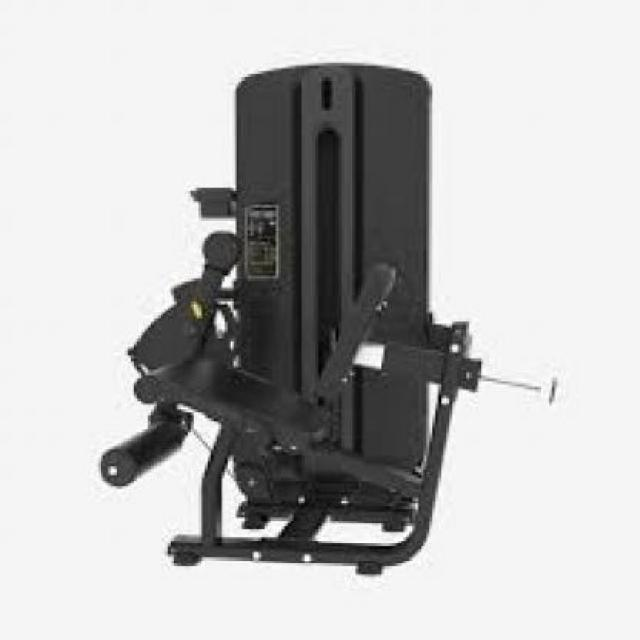leg extension: (85, 57, 568, 594)
